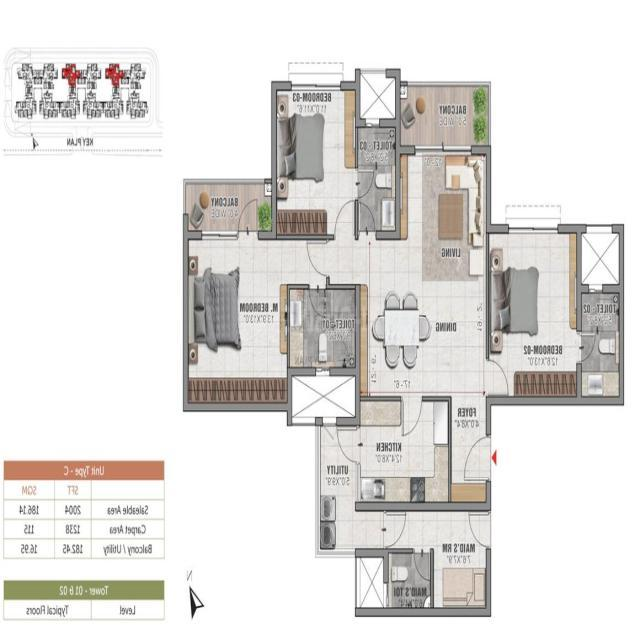Balcony-Sitout: (401, 86, 489, 145), (186, 183, 271, 231)
Bedroom: (276, 90, 355, 235)
Bedroom with Toilet: (187, 238, 357, 405), (488, 228, 621, 401), (386, 511, 487, 612)
Dining: (373, 290, 432, 371)
Enterance-Foyer: (451, 404, 497, 501)
Kitchen: (360, 401, 448, 502)
Living: (401, 155, 486, 283)
Toilet: (290, 288, 355, 368), (357, 127, 396, 230), (581, 294, 620, 397), (388, 553, 431, 608)
Utility: (320, 427, 355, 549)
